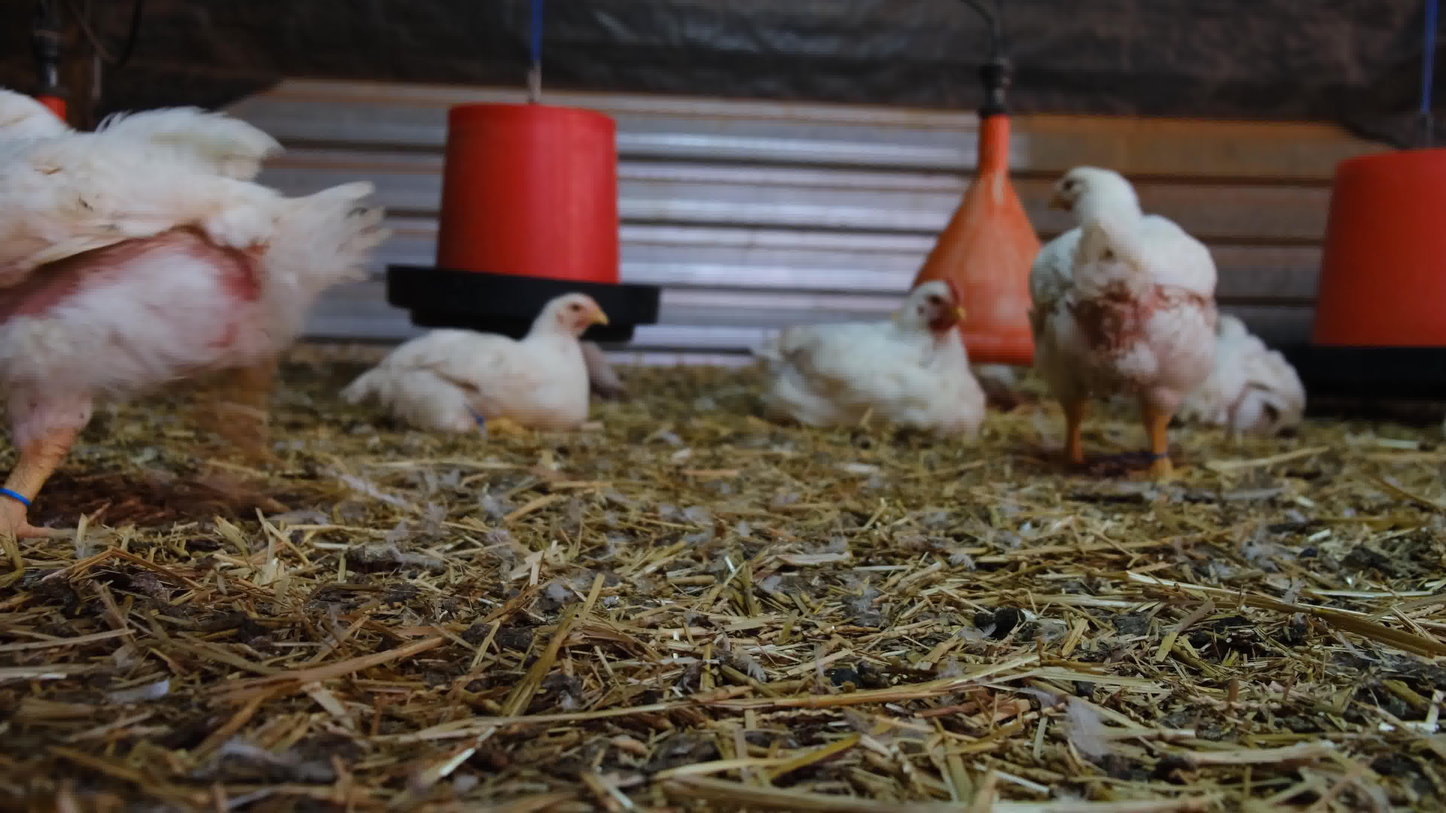AbNormal: (373, 273, 635, 467), (766, 262, 1002, 452), (1184, 299, 1335, 450)
Normal: (0, 58, 386, 587), (1024, 143, 1231, 478)
